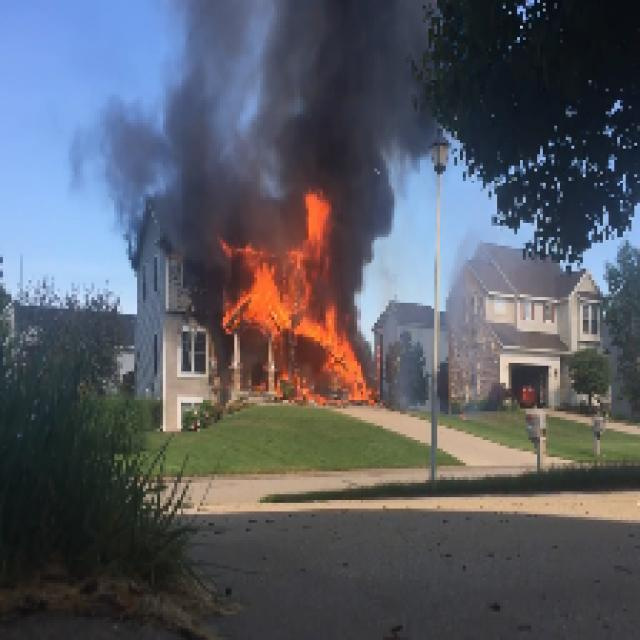Fire: (225, 249, 371, 407), (300, 190, 331, 247)
Smoke: (102, 2, 294, 242), (300, 3, 423, 185), (336, 188, 396, 244)
